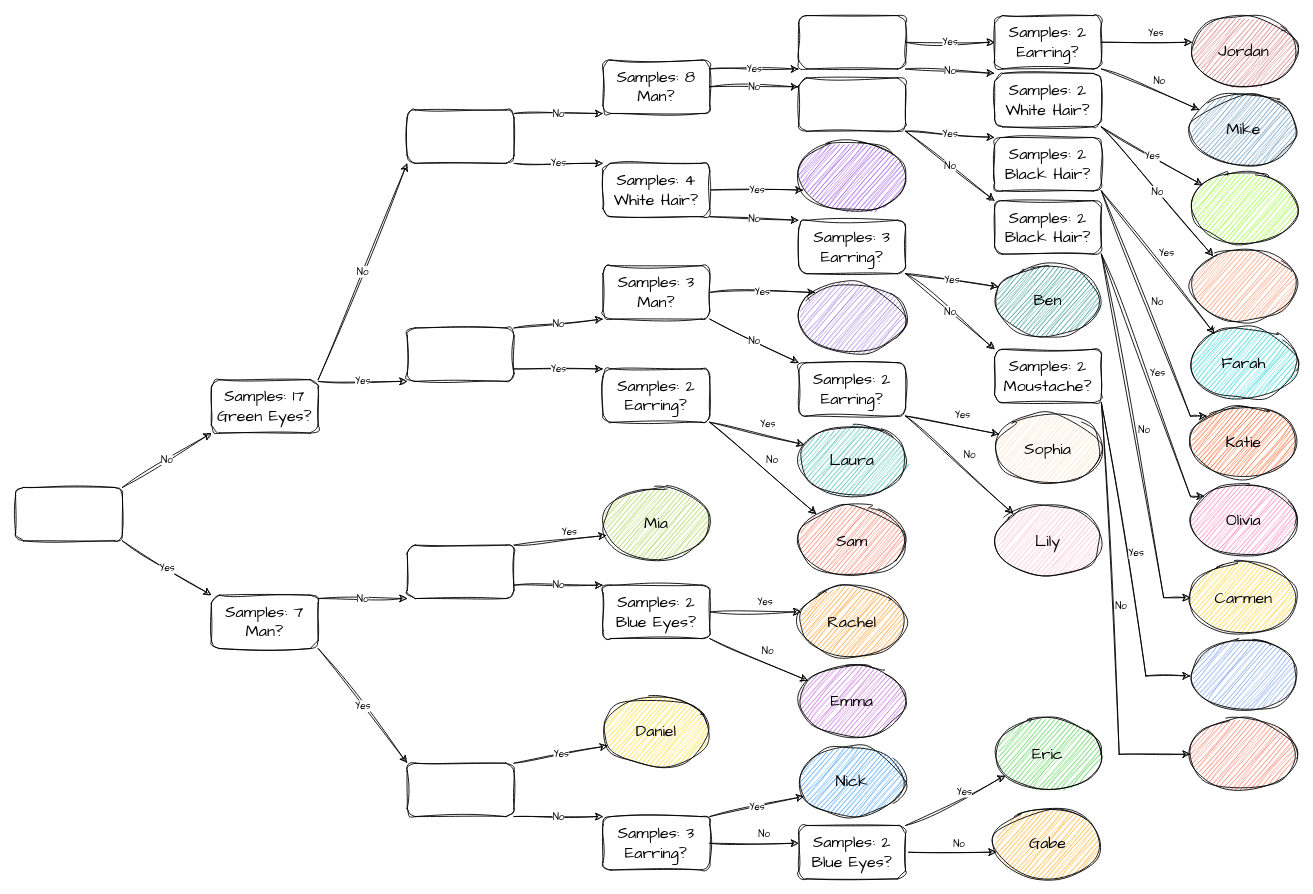
This 1313x894 diagram has some shape labels left out. The box of each missing label's shape, as (x1, y1, x2, y2) in pixels:
Al: (798, 282, 906, 354)
Amy: (1189, 718, 1297, 790)
David: (1189, 249, 1297, 321)
Joe: (1189, 639, 1297, 712)
Leo: (1189, 171, 1297, 243)
Liz: (798, 139, 906, 211)
Samples: 12 Glasses?: (406, 109, 514, 163)
Samples: 24 Freckles?: (15, 487, 122, 541)
Samples: 3 Black Hair?: (406, 544, 514, 599)
Samples: 4 Black Hair?: (798, 15, 906, 69)
Samples: 4 Blue Eyes?: (798, 77, 906, 131)
Samples: 4 Green Eyes?: (406, 762, 514, 817)
Samples: 5 Black Hair?: (406, 327, 514, 381)
